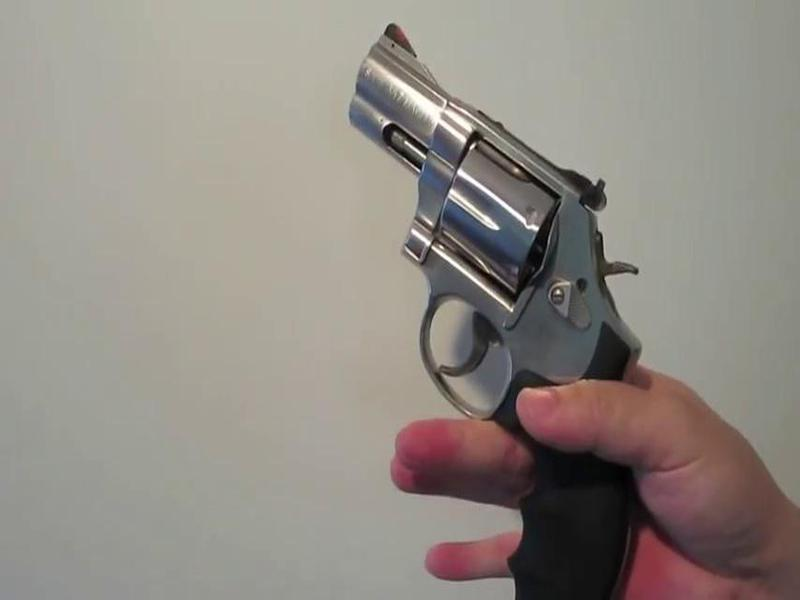Revolver: (306, 24, 681, 556)
